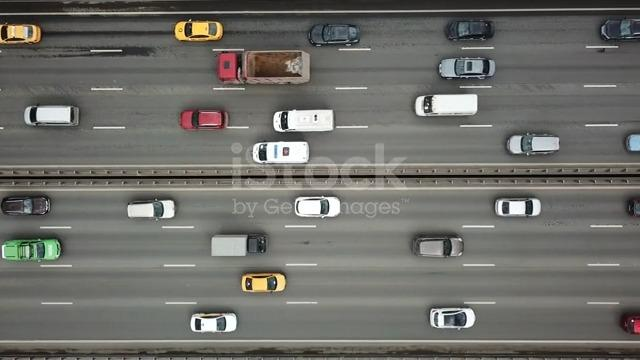Cars: (273, 109, 335, 133), (415, 94, 479, 117), (1, 238, 62, 262), (439, 57, 496, 80), (253, 141, 310, 164), (24, 105, 80, 128), (308, 23, 361, 47), (506, 133, 560, 156), (445, 19, 495, 42), (174, 20, 224, 42), (180, 109, 229, 131), (127, 199, 176, 220), (295, 196, 341, 218), (1, 196, 51, 216), (191, 312, 238, 333), (241, 272, 287, 293), (600, 18, 640, 41), (1, 23, 42, 45)
